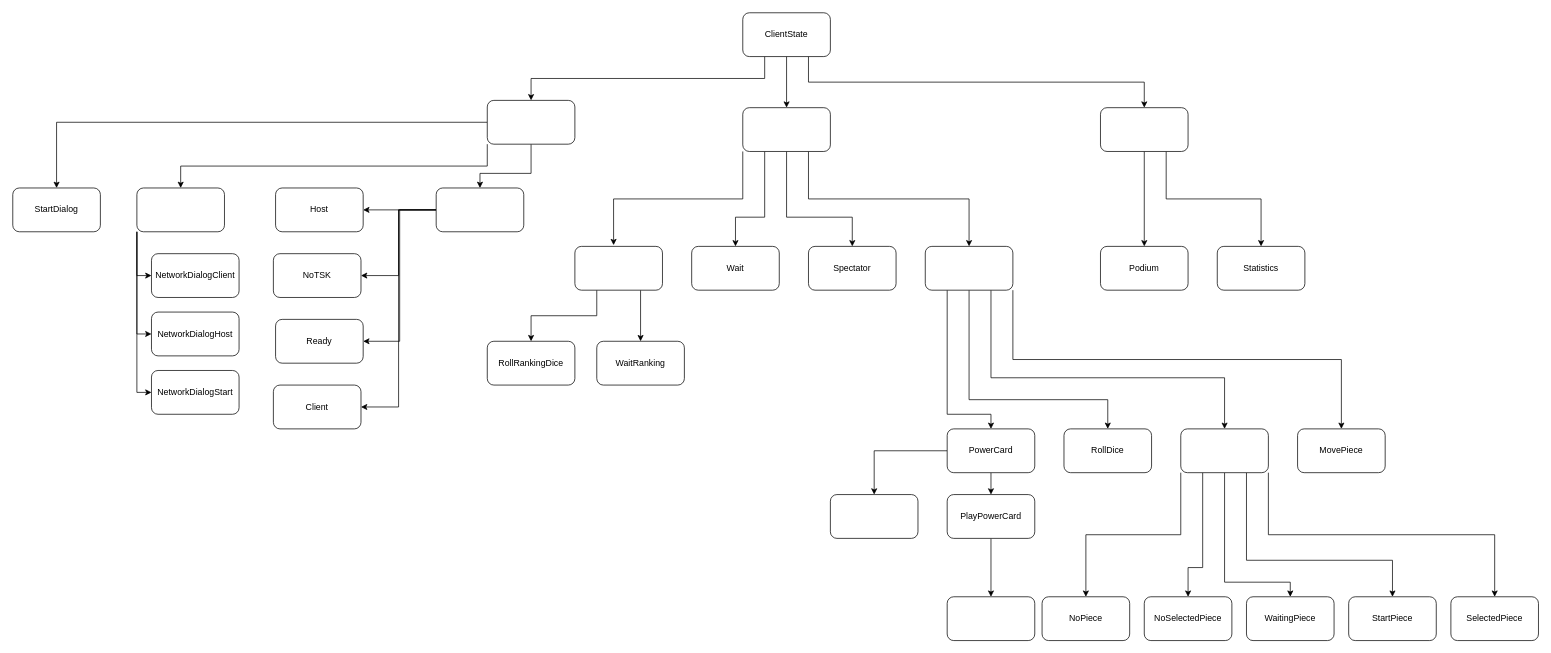
Image size: 1551x653. Some labels were removed from this diagram. Each missing label, with the centre of its shape:
"Ceremony" belongs at pixel 1144 129.
"ChoosePiece" belongs at pixel 1224 450.
"ChoosePowerCard" belongs at pixel 874 516.
"DetermineStartPlayer" belongs at pixel 618 268.
"Dialogs" belongs at pixel 531 122.
"Game" belongs at pixel 786 129.
"Lobby" belongs at pixel 479 209.
"NetworkDialog" belongs at pixel 180 209.
"PlaySwitchCard" belongs at pixel 990 618.
"Turn" belongs at pixel 969 268.
